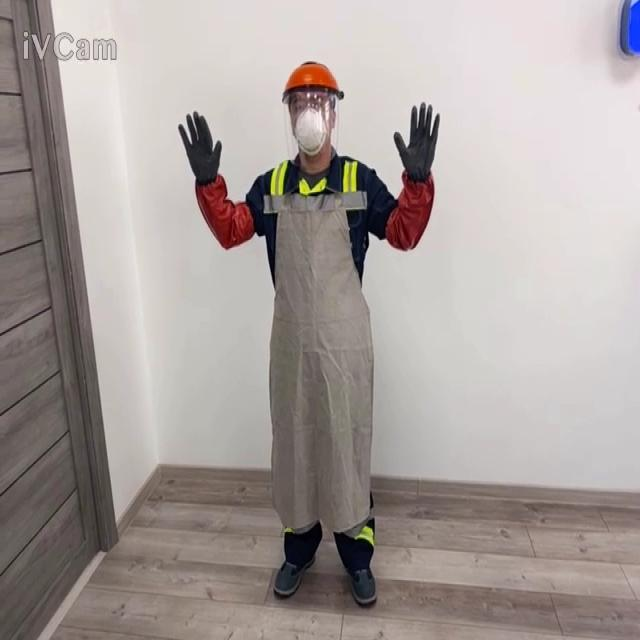Gloves: (177, 110, 254, 250), (393, 102, 440, 182), (177, 110, 222, 186)
Mask: (293, 104, 328, 156)
Protective apron: (263, 163, 375, 536)
Safety Shoes: (273, 553, 315, 596), (346, 565, 376, 604)
Sleeve: (194, 172, 255, 249), (384, 168, 434, 251)
